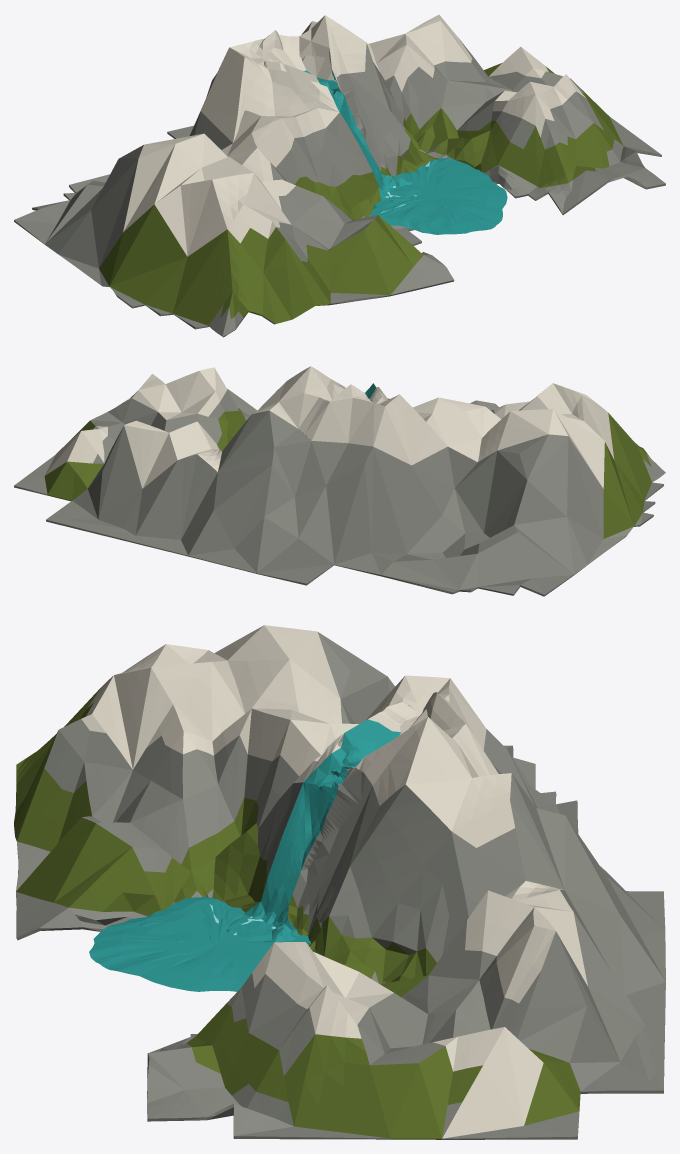
File: berg.dae
The picture shows the model from 3 angles, top to bottom: view 1: azimuth 30°, elevation 25°; view 2: azimuth 150°, elevation 25°; view 3: azimuth 270°, elevation 25°; orthographic projection. The views are drawn at different scales.
Visible parts, largest first — view 1: Plane; view 2: Plane; view 3: Plane.
Part boxes in pixels (<box>): Plane: <box>14,14,665,337</box>; Plane: <box>14,366,665,596</box>; Plane: <box>14,625,665,1139</box>.
Size of the model in its own units: 5.07 by 3.55 by 1.44.
